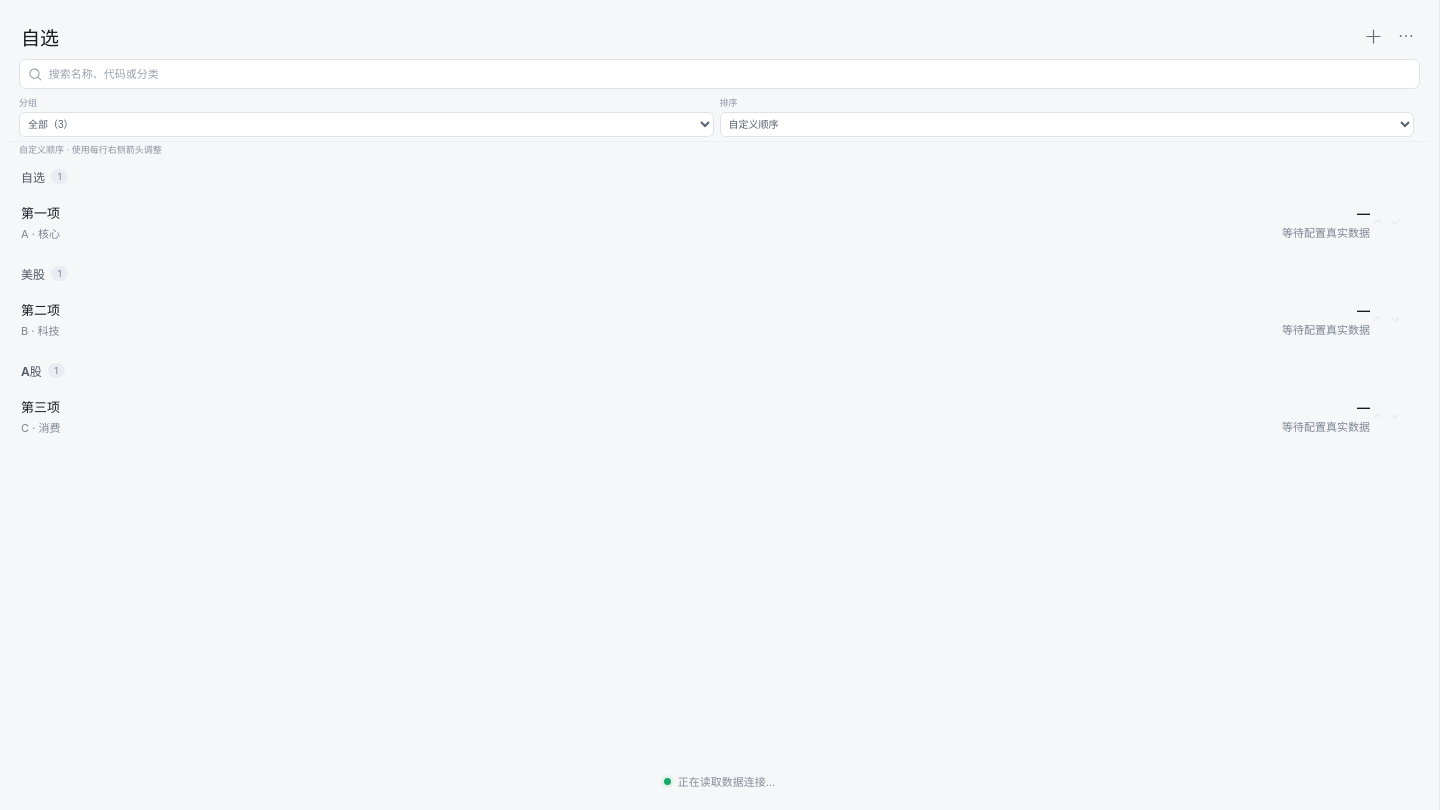
Scenario: WatchlistSidebar custom ordering › filters watchlist rows locally by name, symbol, category, or market
Type "科技" into the search field named "搜索自选". click: (730, 74)
box: 49,60 -> 1411,88
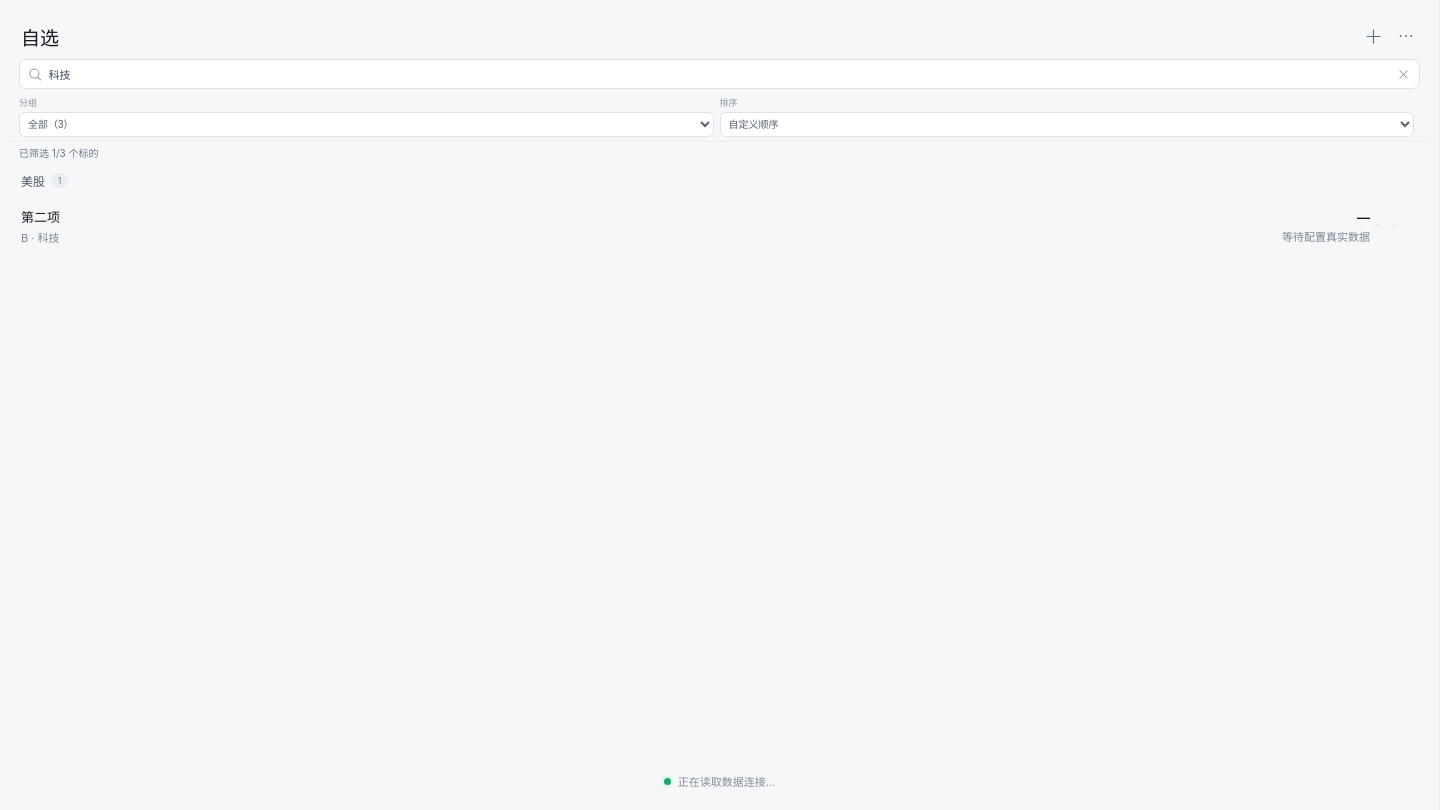
Result: the button "第一项" is gone
Result: the message reads "已筛选 1/3 个标的" at 19,147 -> 98,159
Result: the button named "清除自选搜索" is shown
Click the button named "清除自选搜索". click: (1401, 74)
box: 1391,64 -> 1411,84
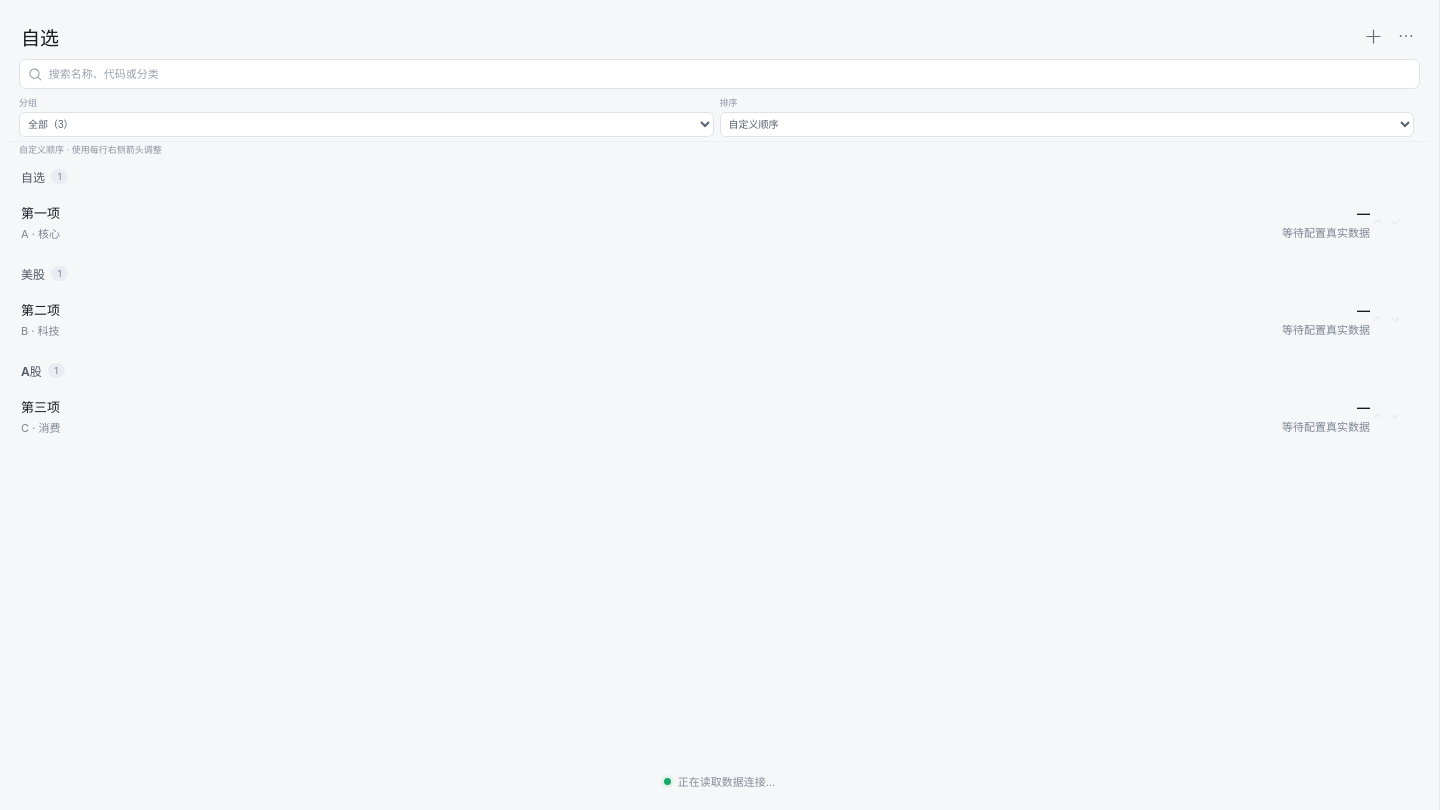
Result: the text "第一项" is shown at 21,203 -> 60,222
Result: the button "清除自选搜索" is gone
